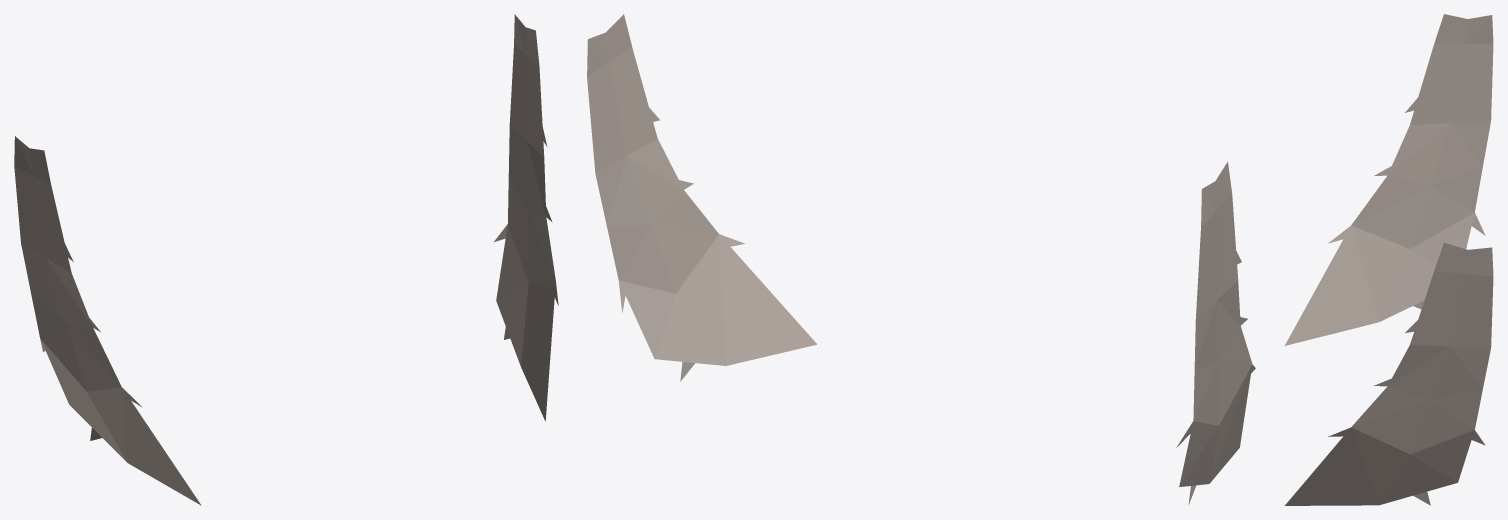
The model's file is sideBurnsWhite.glb.
3 renders of one model, left to right at view 1: azimuth 30°, elevation 25°; view 2: azimuth 150°, elevation 25°; view 3: azimuth 270°, elevation 25°, orthographic. The views are drawn at different scales.
Visible parts, largest first — view 1: sideBurnsWhite; view 2: sideBurnsWhite; view 3: sideBurnsWhite.
Part boxes in pixels (x1,y1,x2,y2): sideBurnsWhite: [14, 14, 558, 505]; sideBurnsWhite: [587, 14, 1255, 504]; sideBurnsWhite: [1284, 14, 1493, 505].
Size of the model in its own units: 0.2079 by 0.1241 by 0.079.
